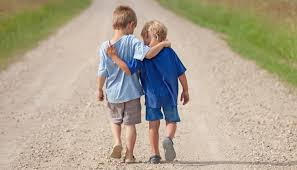Humano: (96, 3, 143, 161), (138, 18, 188, 162)
